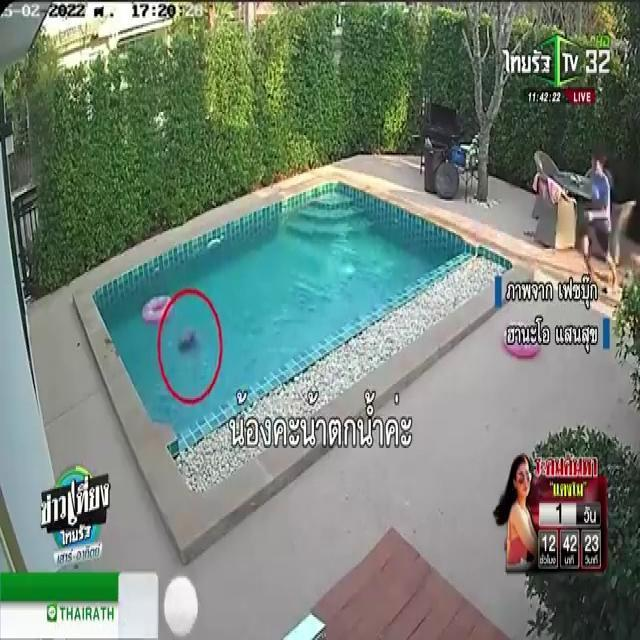Out of Water: (168, 310, 208, 367)
